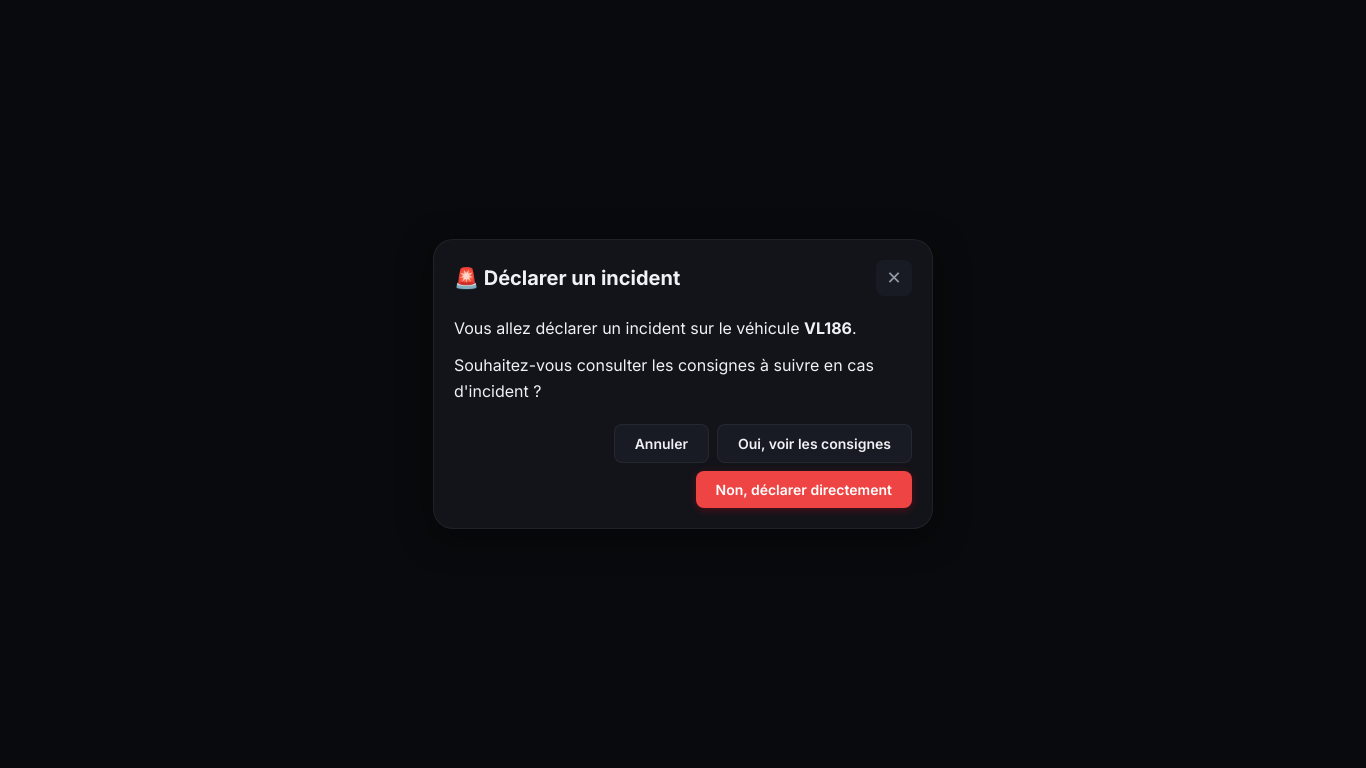
IncidentReportModal › affiche un message d'erreur si l'API échoue
Click the button "Non, déclarer directement".
click(804, 490)  # box [696,471,912,508]
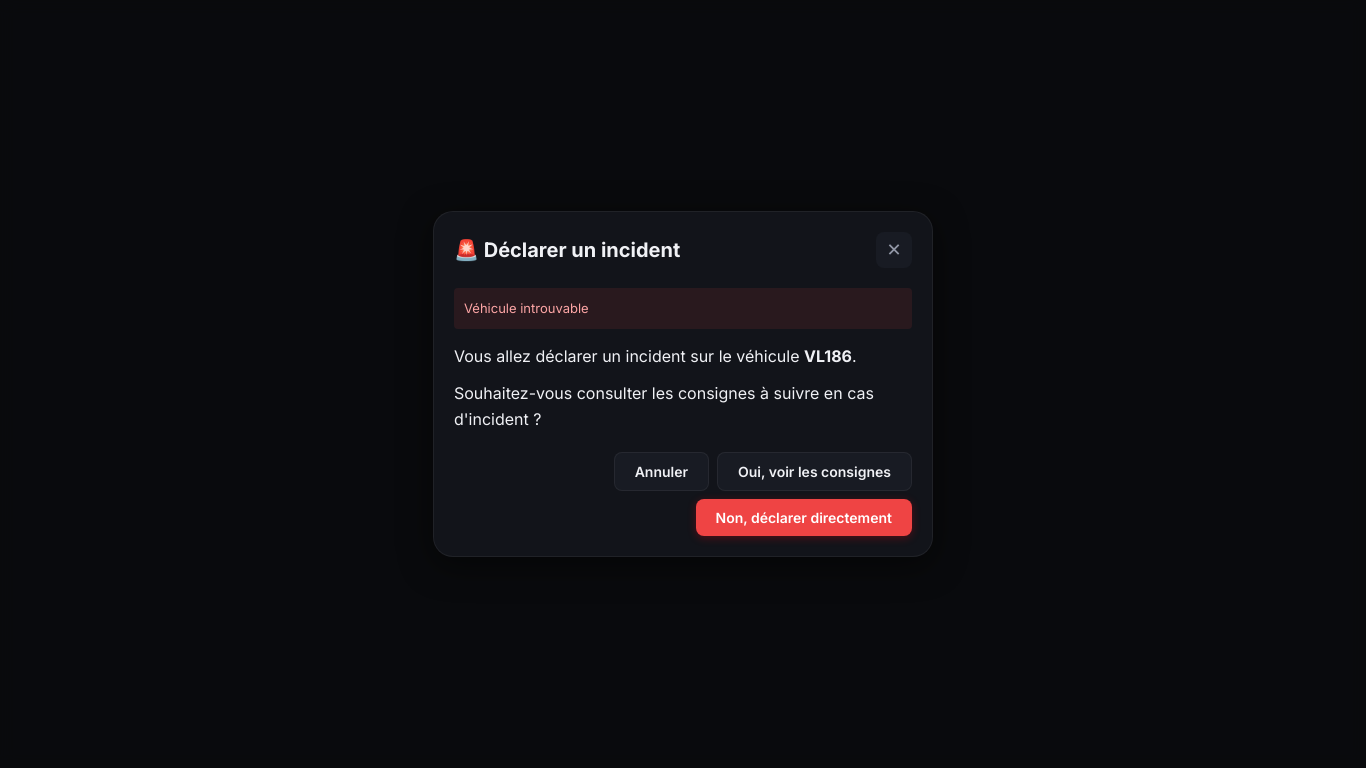
Expected: the heading "🚨 Déclarer un incident" is shown, [454,234,680,266]
Now the text "Véhicule introuvable" is shown, box [454,288,912,328]
